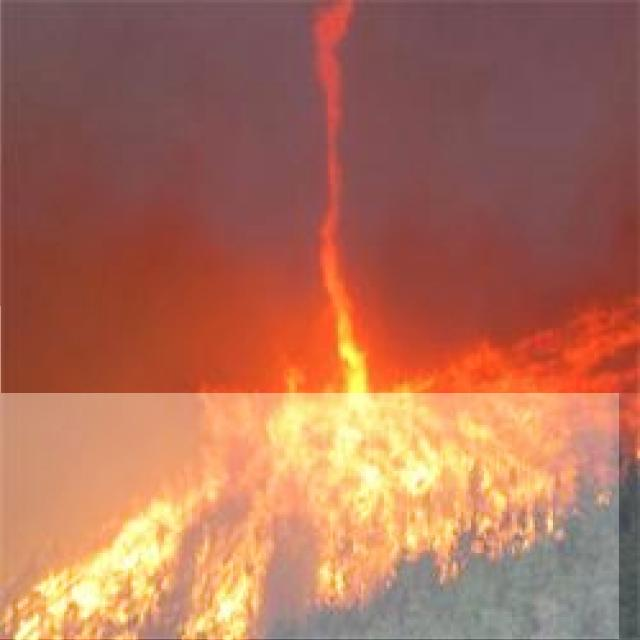Fire: (0, 306, 619, 639)
Smoke: (1, 0, 640, 393)
